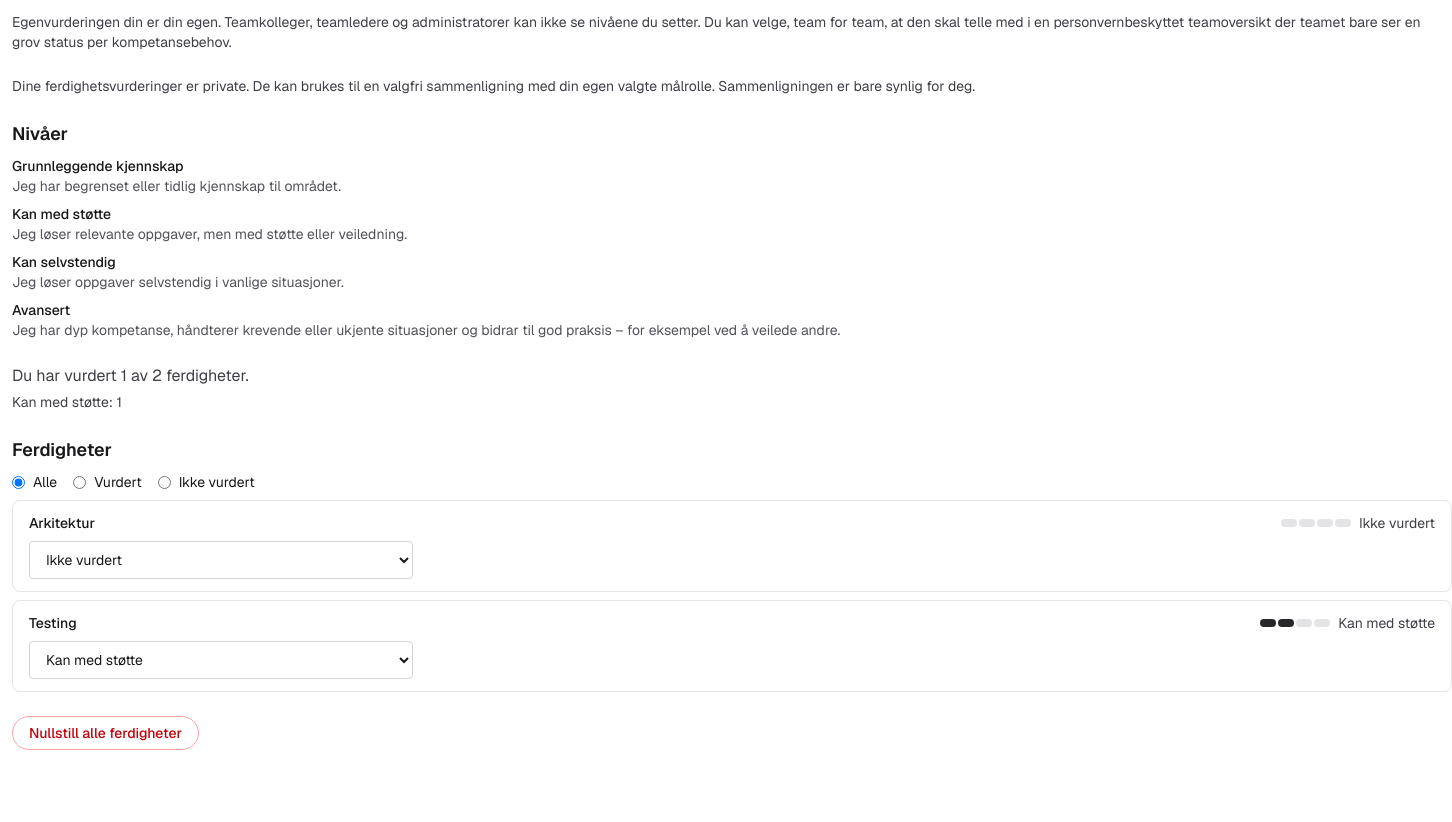
Test: SkillProfilePage — reset-all outcomes (TASK-009) › success: all rows unassessed, catalog kept, overview zero, reset gone, no per-skill writes, no refetch
Expected: the text "Egenvurderingen din er din egen" is shown, [12, 13, 1420, 51]
Step 1. Click the button "Nullstill alle ferdigheter" → [106, 733], box [12, 716, 199, 750]
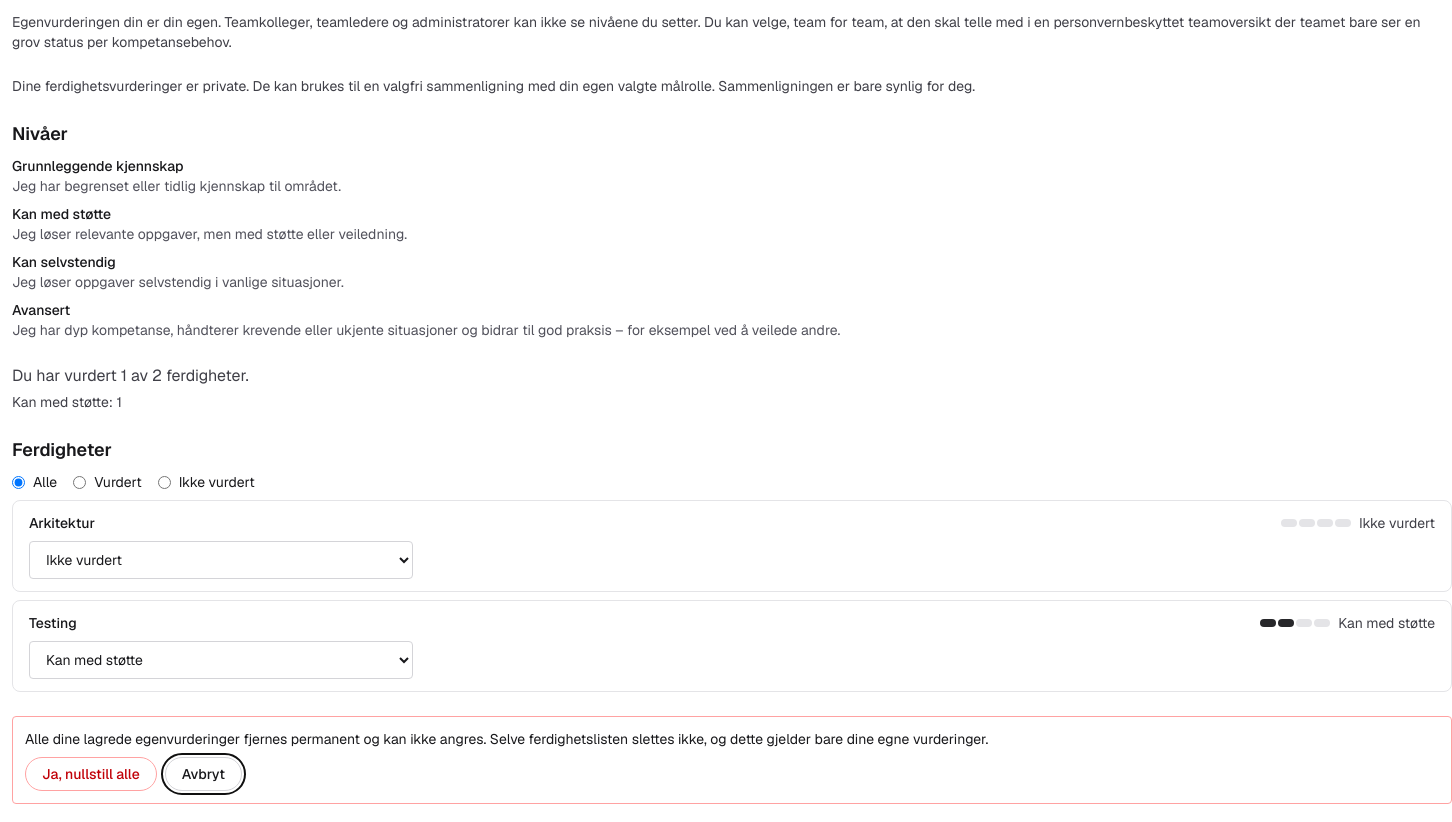
Step 2. Click the button "Ja, nullstill alle" → [91, 774], box [25, 757, 157, 791]
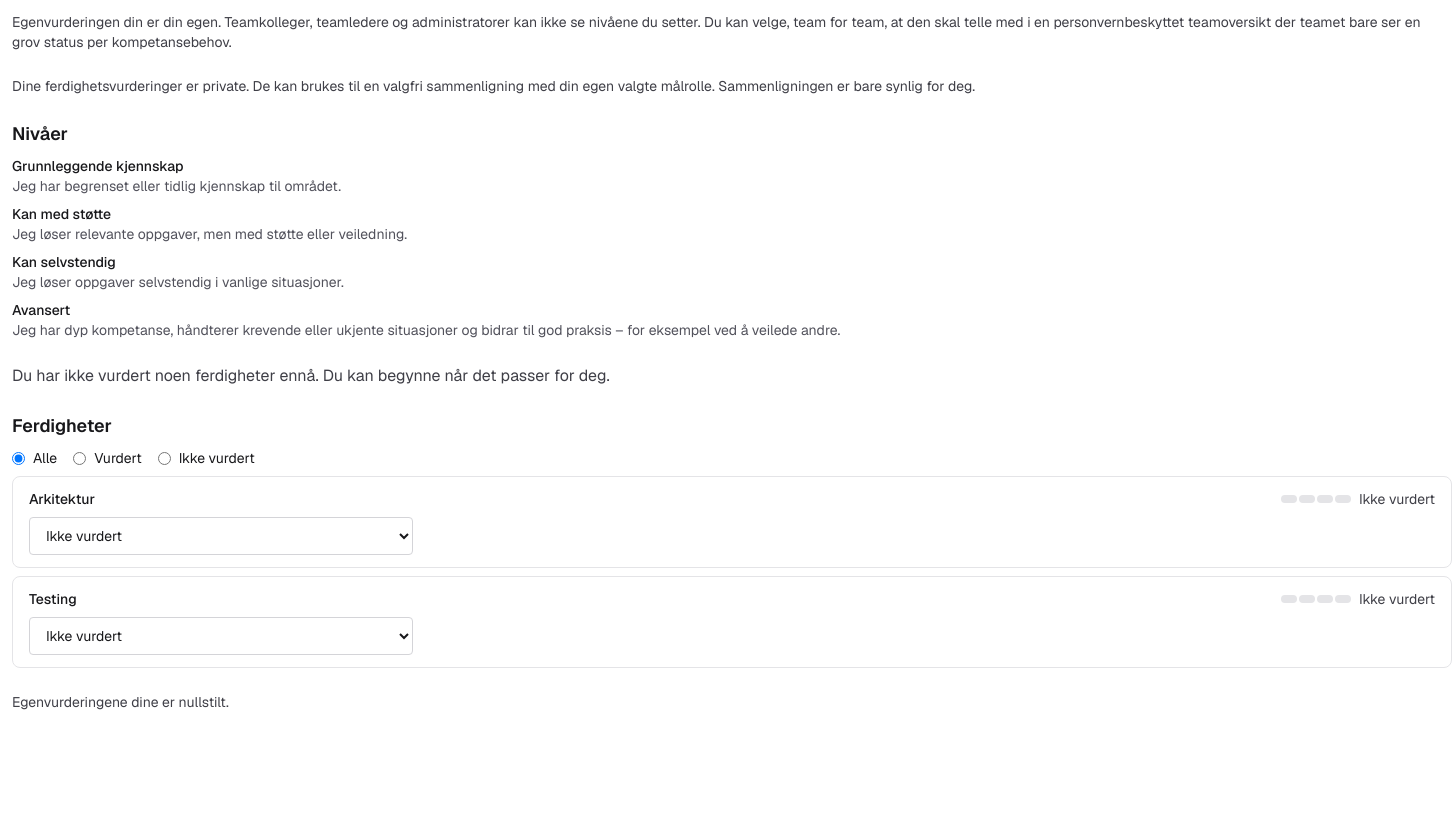
Result: the dropdown labelled "Testing" shows "Ikke vurdert" at [29, 617, 413, 655]
Result: the dropdown labelled "Testing" is enabled at [29, 617, 413, 655]
Result: the text "Du har ikke vurdert noen ferdigheter ennå" is shown at [12, 365, 610, 386]
